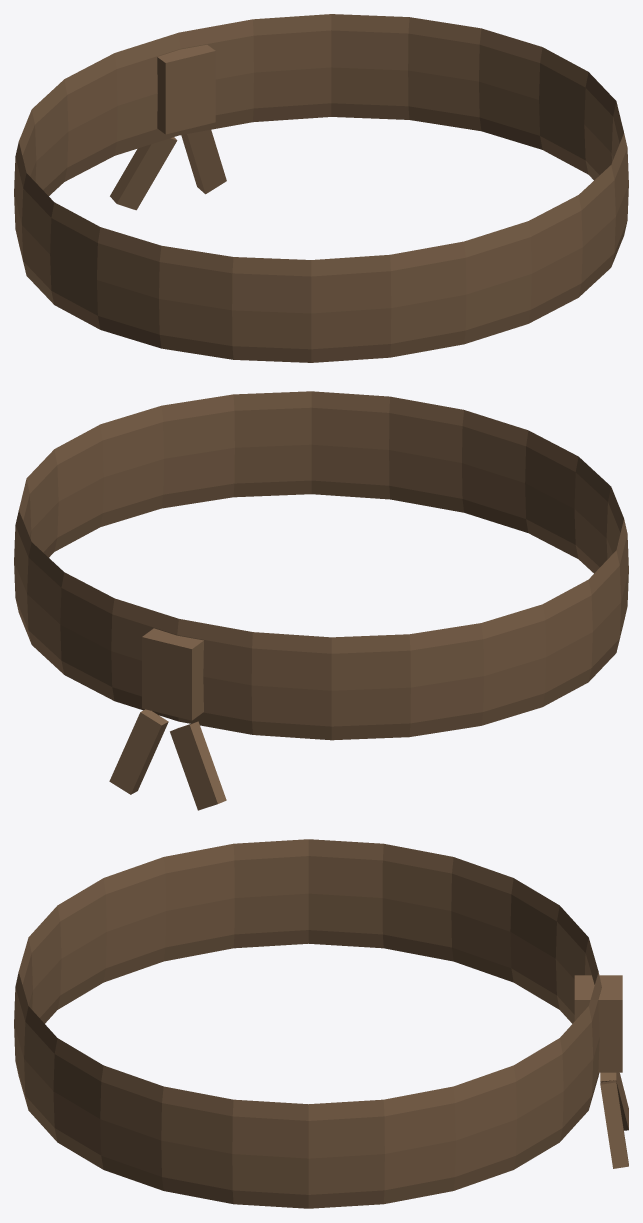
File: gear_headband.glb
3 views of the same model, one above another, from view 1: azimuth 30°, elevation 25°; view 2: azimuth 150°, elevation 25°; view 3: azimuth 270°, elevation 25° (orthographic).
Parts seen in each view (by area): view 1: Headband; view 2: Headband; view 3: Headband.
Boxes of the visible parts, bbox=[...] form: Headband: bbox=[14, 14, 628, 362]; Headband: bbox=[14, 391, 628, 810]; Headband: bbox=[14, 839, 628, 1208].
Size of the model in its own units: 0.2384 by 0.0736 by 0.2302.
